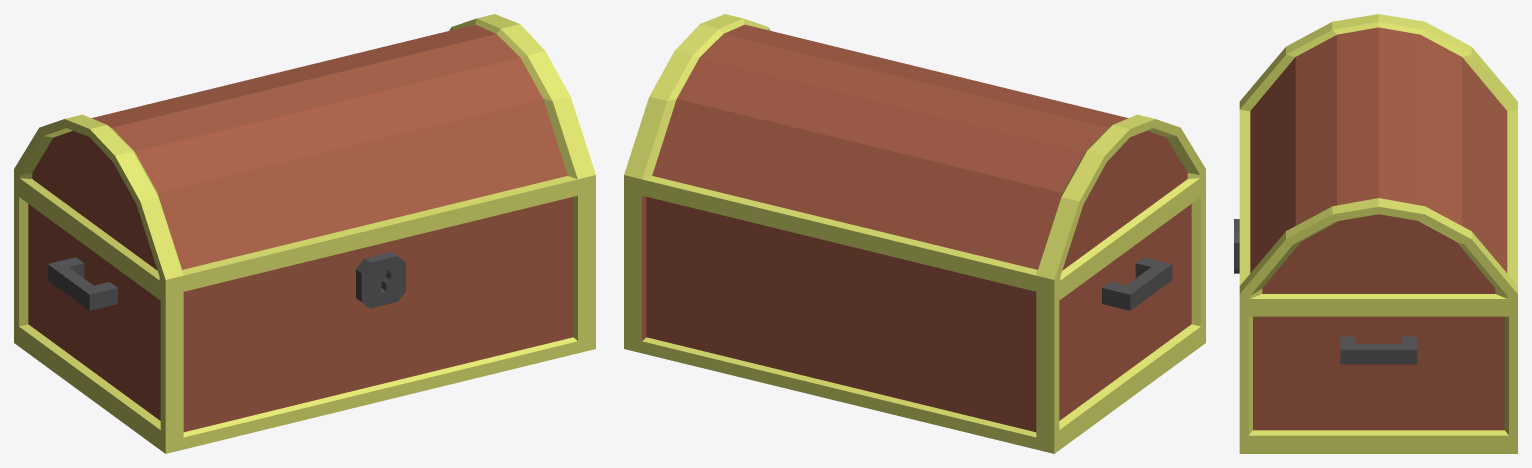
File: Chest.fbx
3 renders of one model, left to right at view 1: azimuth 30°, elevation 25°; view 2: azimuth 150°, elevation 25°; view 3: azimuth 270°, elevation 25°, orthographic. The views are drawn at different scales.
Parts seen in each view (by area): view 1: Chest, Lock, Handle_1; view 2: Chest, Handle_1; view 3: Chest, Handle_2, Lock.
Boxes of the visible parts, x1=… form: Chest: x1=14, y1=14, x2=595, y2=453; Lock: x1=356, y1=252, x2=405, y2=308; Handle_1: x1=47, y1=257, x2=117, y2=310; Chest: x1=624, y1=14, x2=1205, y2=453; Handle_1: x1=1102, y1=257, x2=1172, y2=310; Chest: x1=1239, y1=14, x2=1517, y2=453; Handle_2: x1=1340, y1=336, x2=1417, y2=364; Lock: x1=1234, y1=219, x2=1239, y2=273.
Bounding box in the file's own units: 1.9 × 1.03 × 1.08.
